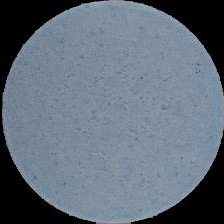42291-240: (0, 0, 224, 224)
